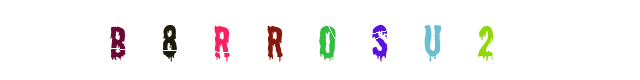2: (445, 0, 525, 80)
8: (153, 0, 233, 80)
B: (129, 0, 209, 80)
O: (282, 0, 362, 80)
R: (181, 0, 261, 80), (281, 0, 361, 80)
S: (331, 0, 411, 80)
U: (340, 0, 420, 80)
